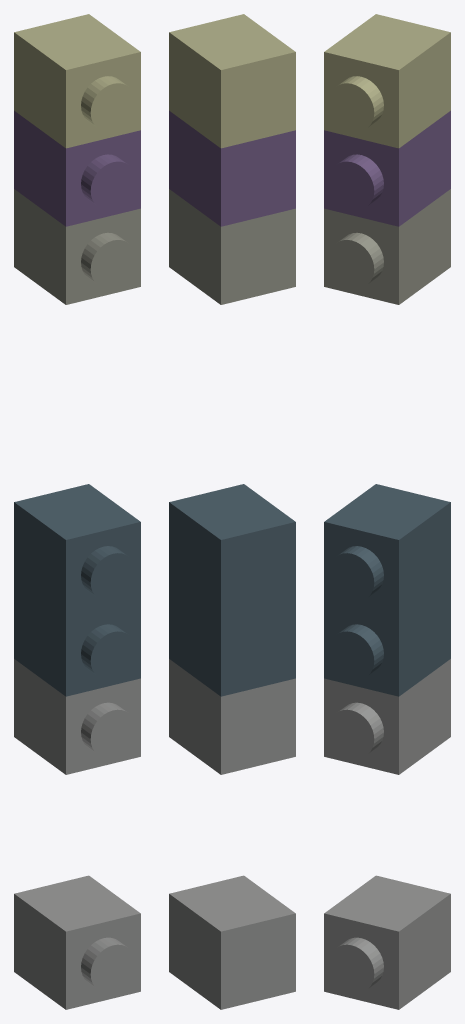
File: current.glb
3 views of the same model, side by side, from view 1: azimuth 30°, elevation 25°; view 2: azimuth 210°, elevation 25°; view 3: azimuth 330°, elevation 25° (orthographic).
Parts seen in each view (by area): view 1: world; view 2: world; view 3: world.
Part boxes in pixels (x1,y1,x2,y2): world: (14,14,140,1009); world: (169,14,295,1009); world: (324,14,450,1009).
Bounding box in the file's own units: 8 × 96 × 11.4.
